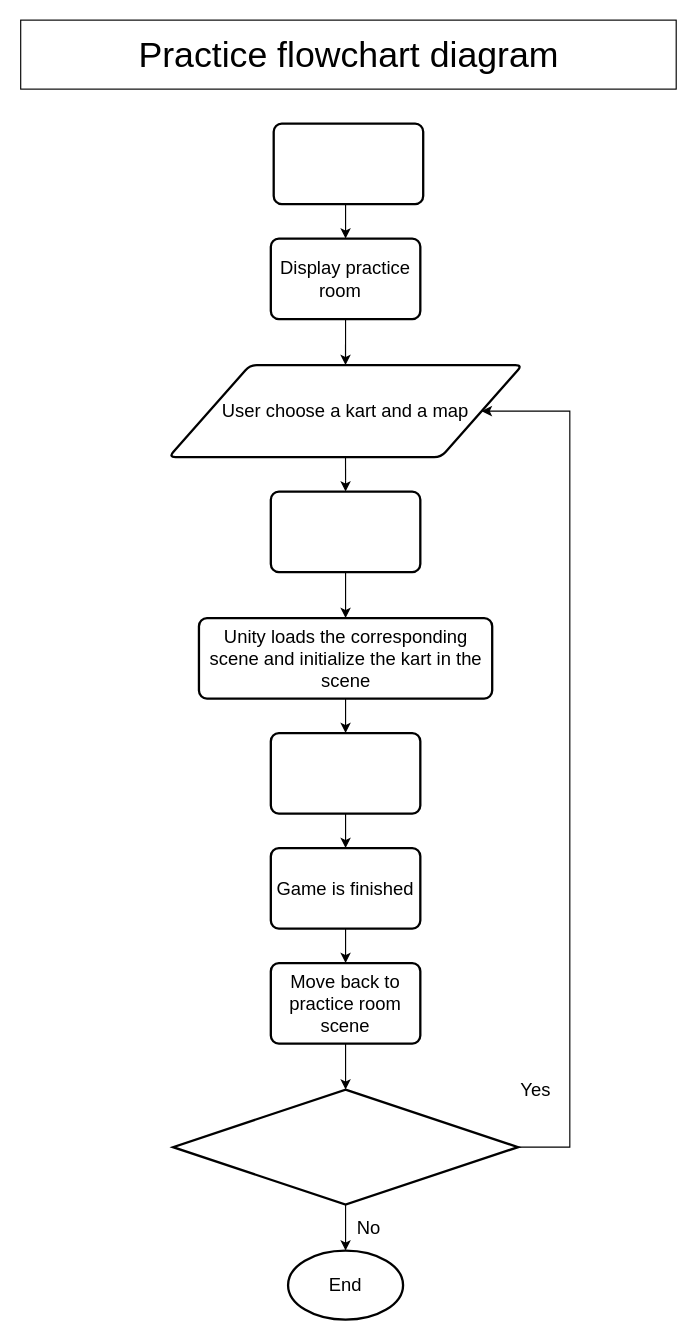
The diagram is 696 pixels wide and 1341 high, and some of its shapes have lost their labels. The shapes that lost their labels are listed below. From the top down, each one's box as (x1, y1, x2, y2) in pixels, then its label:
(272, 122, 424, 205): User choose the practice button
(269, 490, 421, 573): Unity gets user map and kart selection
(269, 731, 421, 814): User plays the game
(171, 1088, 519, 1205): Does the user want to play again ?
